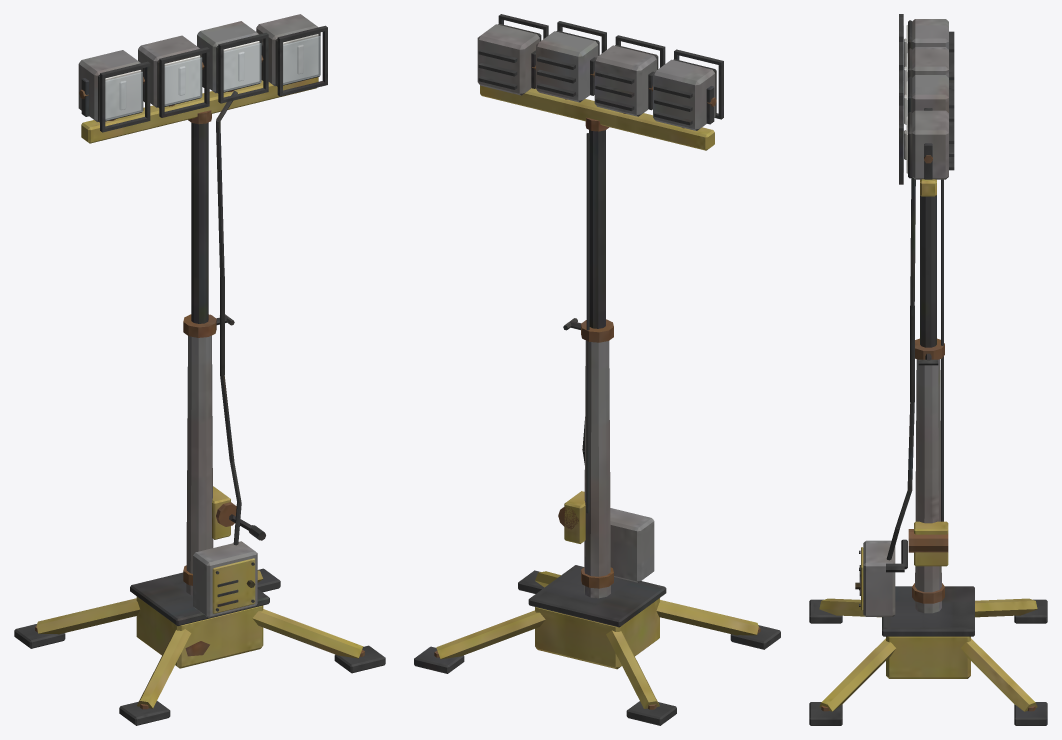
Rendered from CS21_floodlight_tower.glb.
3 renders of one model, left to right at view 1: azimuth 30°, elevation 25°; view 2: azimuth 150°, elevation 25°; view 3: azimuth 270°, elevation 25°, orthographic. The views are drawn at different scales.
Visible parts, largest first — view 1: Ballast plinth; view 2: Ballast plinth; view 3: Ballast plinth.
Boxes of the visible parts, x1,y1,x2,y2 form: Ballast plinth: [14, 14, 385, 725]; Ballast plinth: [414, 14, 780, 725]; Ballast plinth: [809, 14, 1047, 725].
Bounding box in the file's own units: 2.13 × 5 × 1.8.
Materials: 8 (7 with a texture image).
